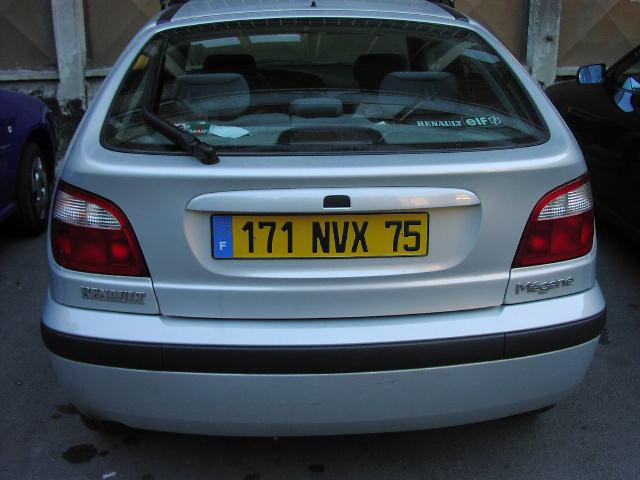plate: (211, 213, 429, 257)
